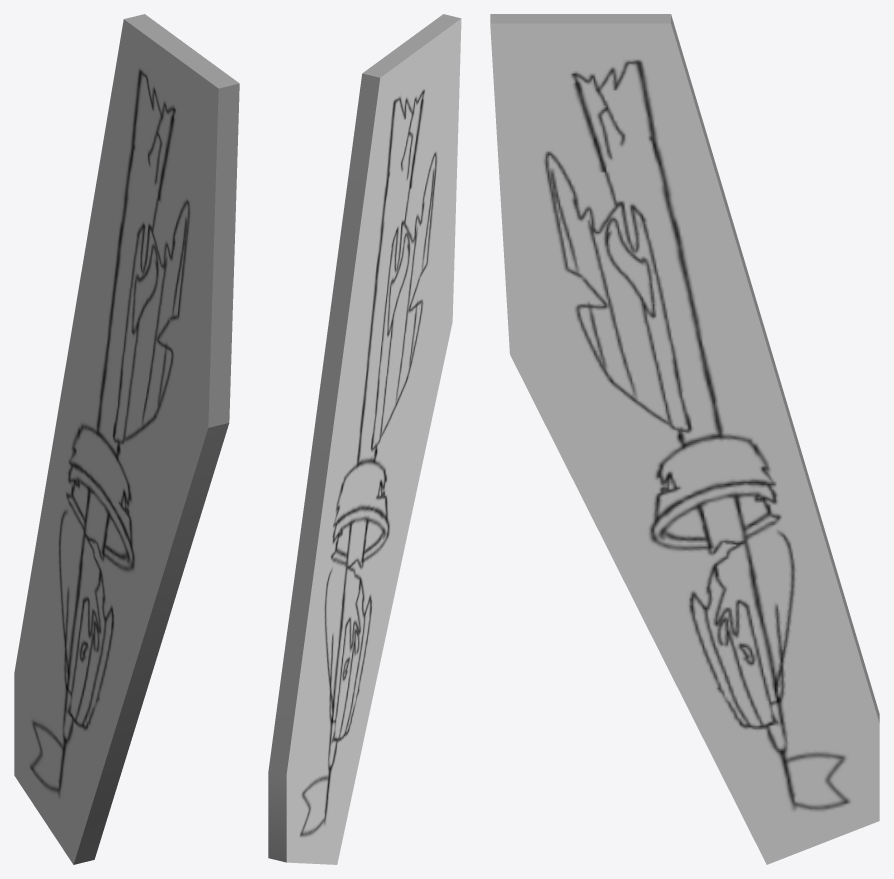
File: ship_mast.fbx
The picture shows the model from 3 angles, left to right: view 1: azimuth 30°, elevation 25°; view 2: azimuth 150°, elevation 25°; view 3: azimuth 270°, elevation 25°; orthographic projection. The views are drawn at different scales.
Visible parts, largest first — view 1: pCube2; view 2: pCube2; view 3: pCube2.
Part boxes in pixels (x1,y1,x2,y2): pCube2: [14, 14, 239, 864]; pCube2: [268, 14, 461, 864]; pCube2: [490, 14, 879, 864].
Size of the model in its own units: 0.1 by 4 by 1.68.
Materials: 2 (1 with a texture image).
